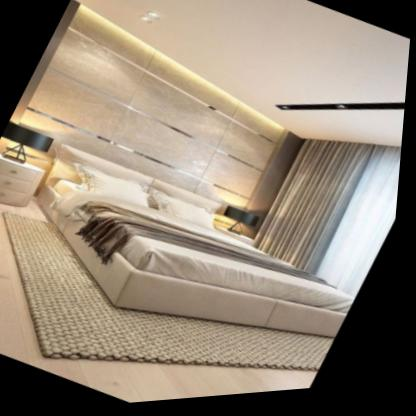Bed: (41, 145, 356, 343)
Carpet: (3, 212, 339, 379)
Curtains: (257, 146, 380, 279)
Gypsum Board: (255, 145, 404, 303)
Wall Panel: (6, 1, 306, 228)
